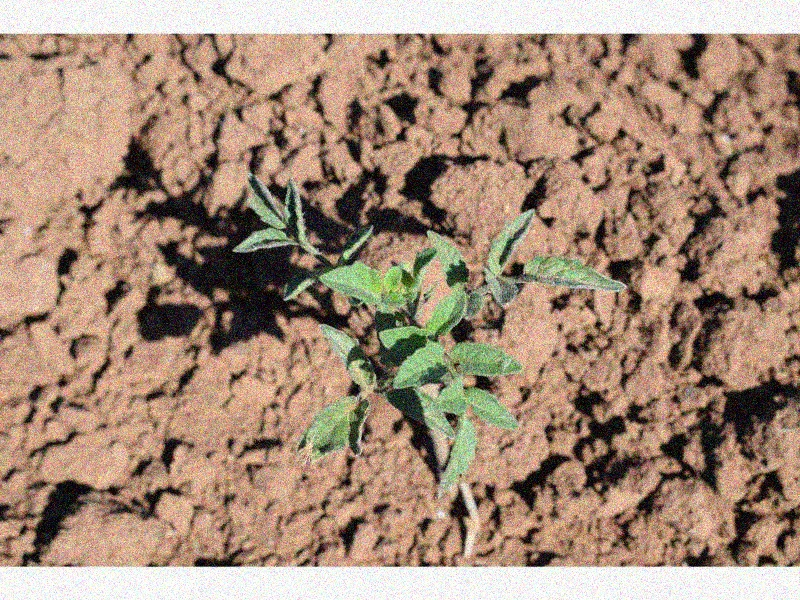tomato: (233, 167, 626, 496)
